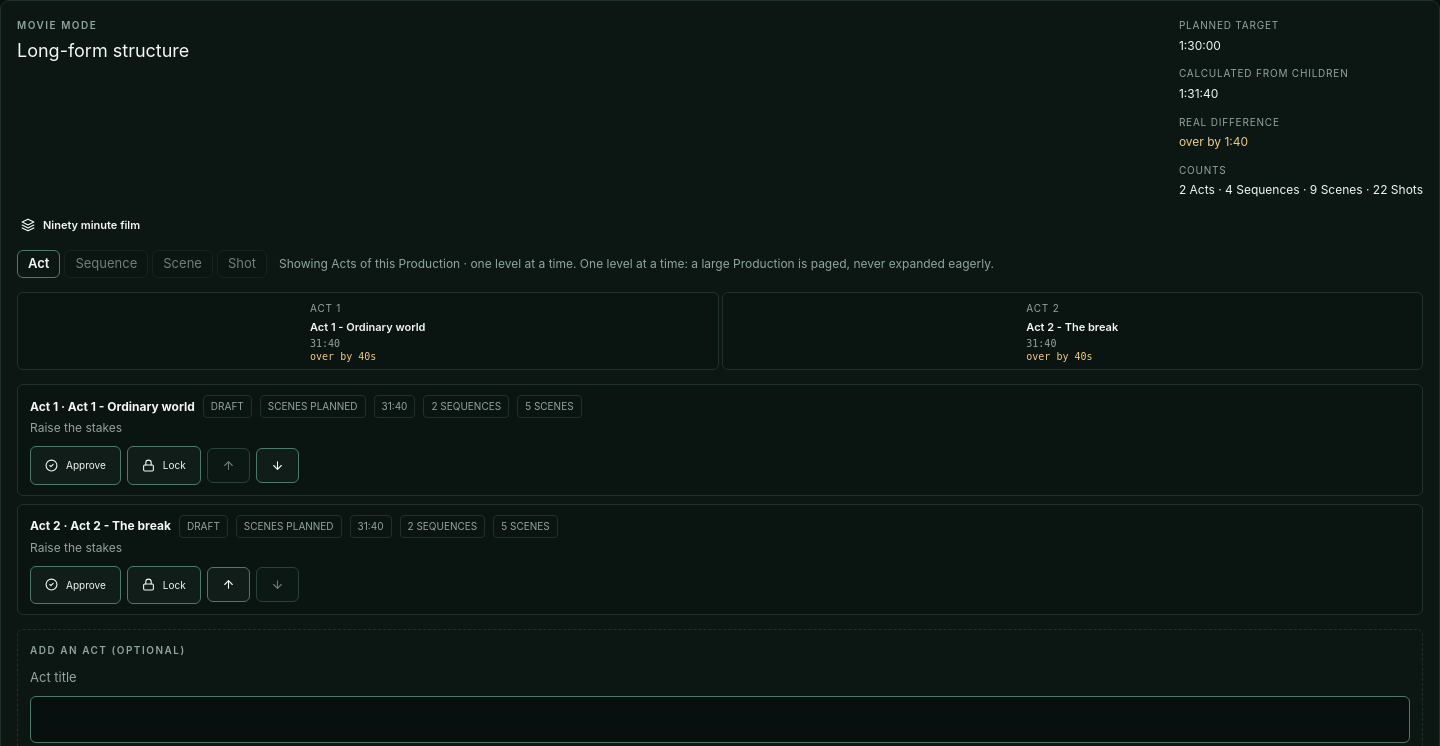
it: Movie Mode › drills into an Act lazily with an explicit scope and keeps the Act revision for its writes
Click the button labelled "Act 2 Act 2 - The break 31:40 over by 40s": (1072, 331) [722, 292, 1423, 370]
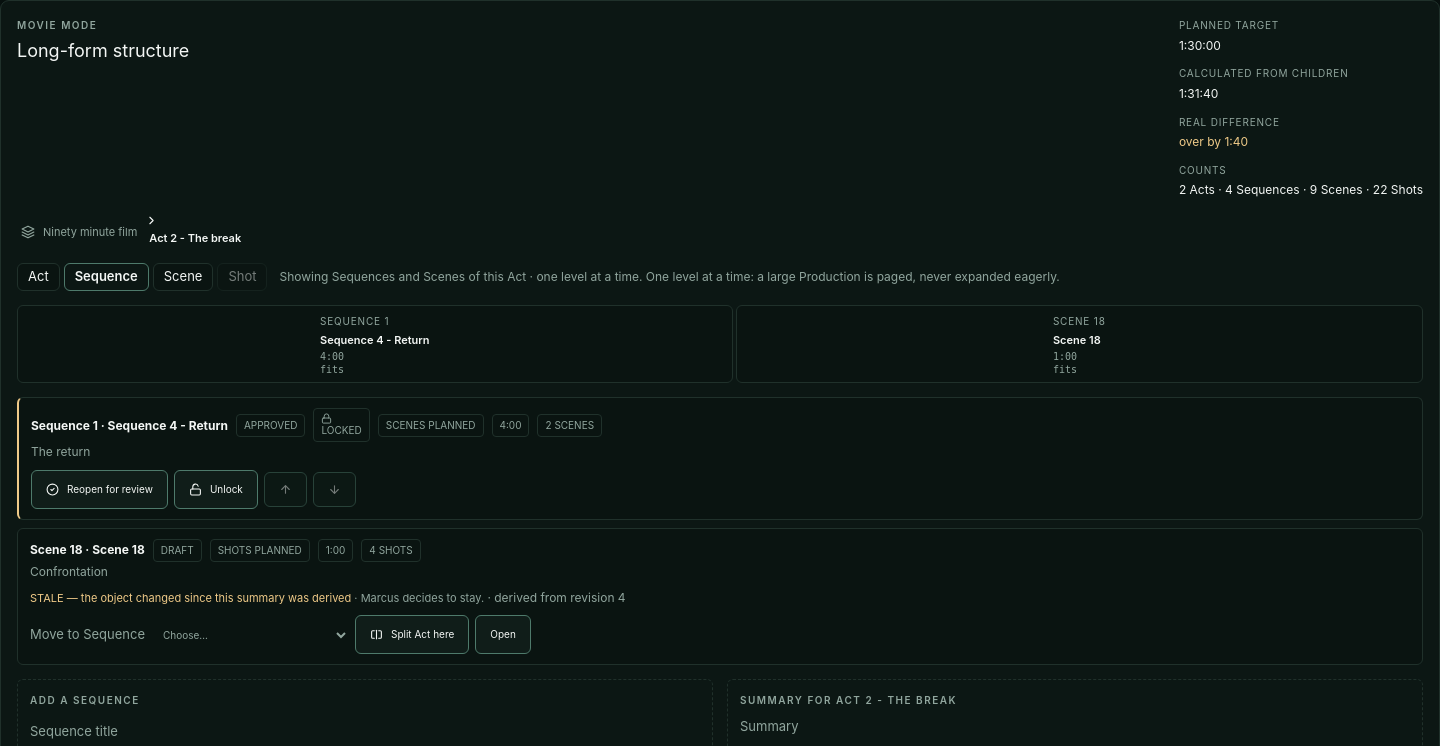
Now the text "Sequence 1 · Sequence 4 - Return" is shown, box [31, 416, 228, 435]
Now the text "STALE — the object changed since this summary was derived" is shown, box [30, 590, 351, 604]
Now the navigation bar named "Structure breadcrumb" shows "Act 2 - The break", box [145, 227, 245, 249]
